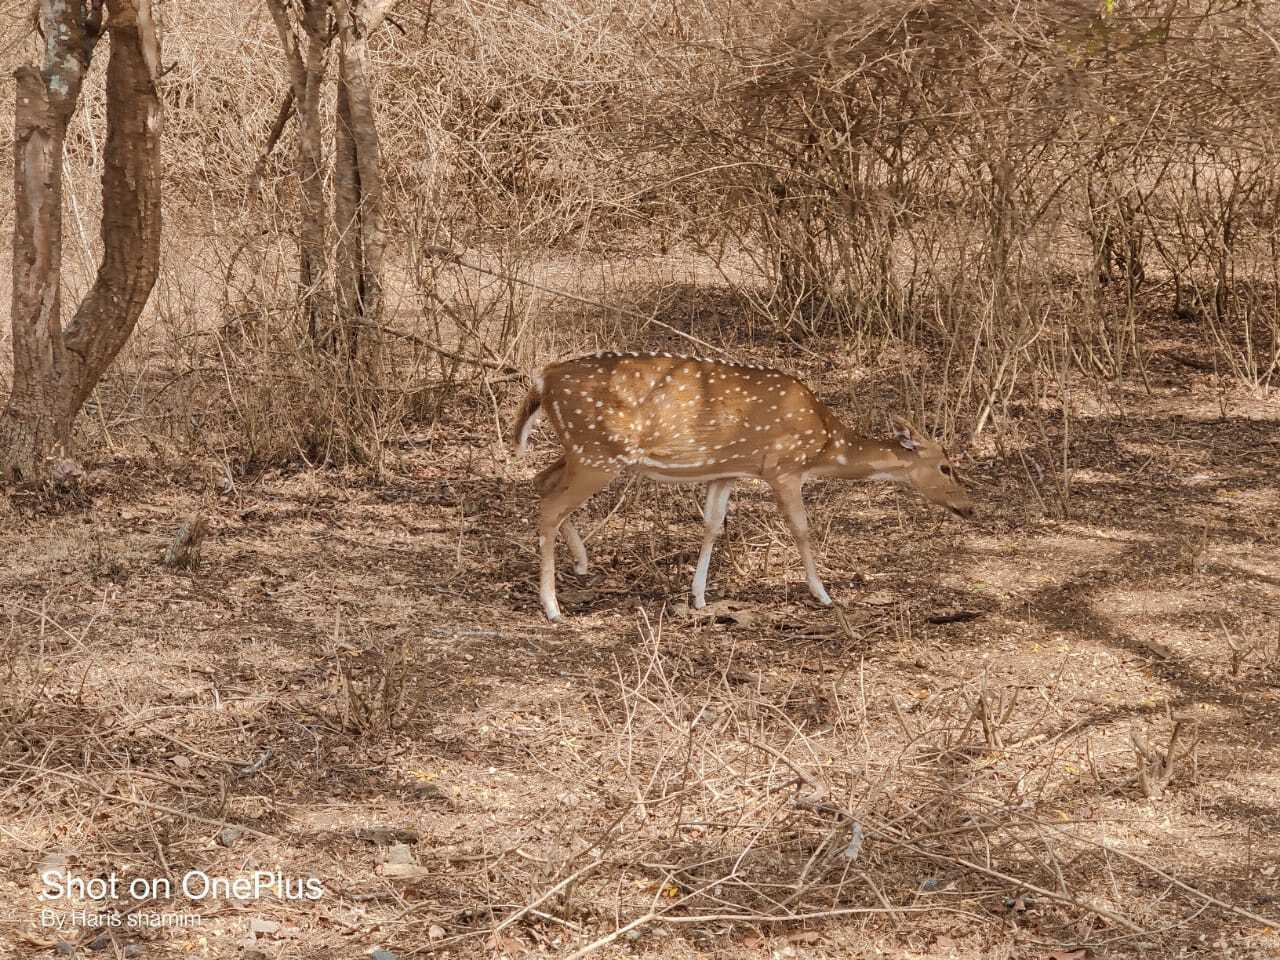Deer: (512, 353, 973, 621)
